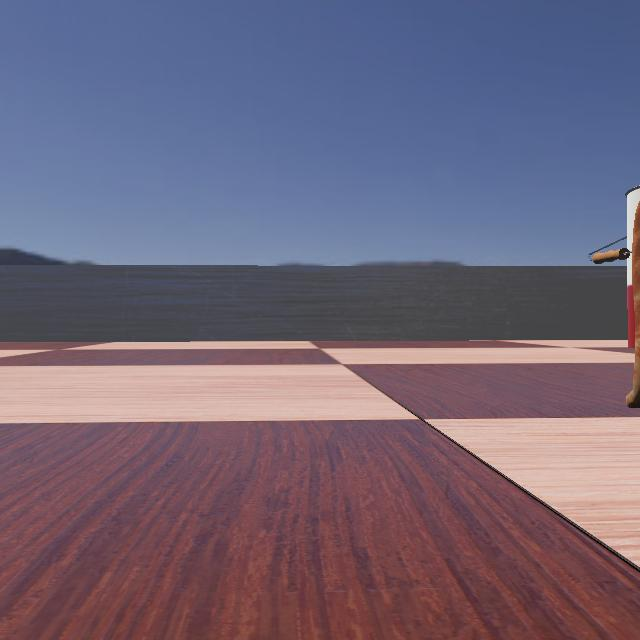cat: (503, 1, 639, 450)
